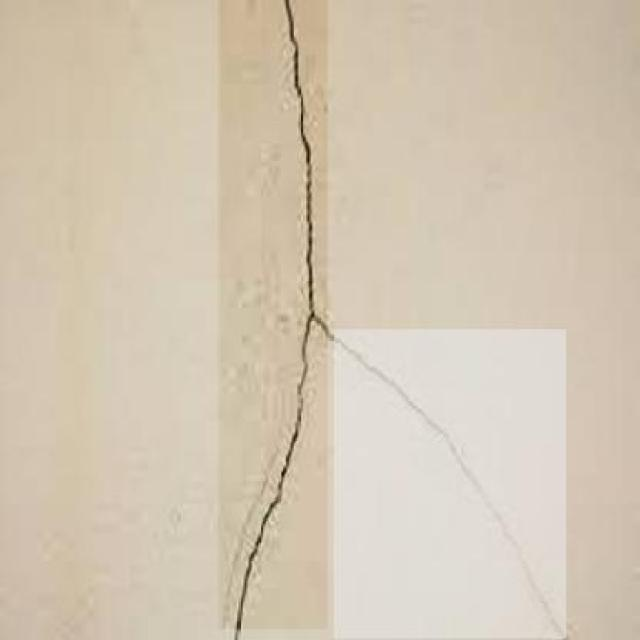Crack: (329, 307, 597, 640), (225, 0, 320, 640)
